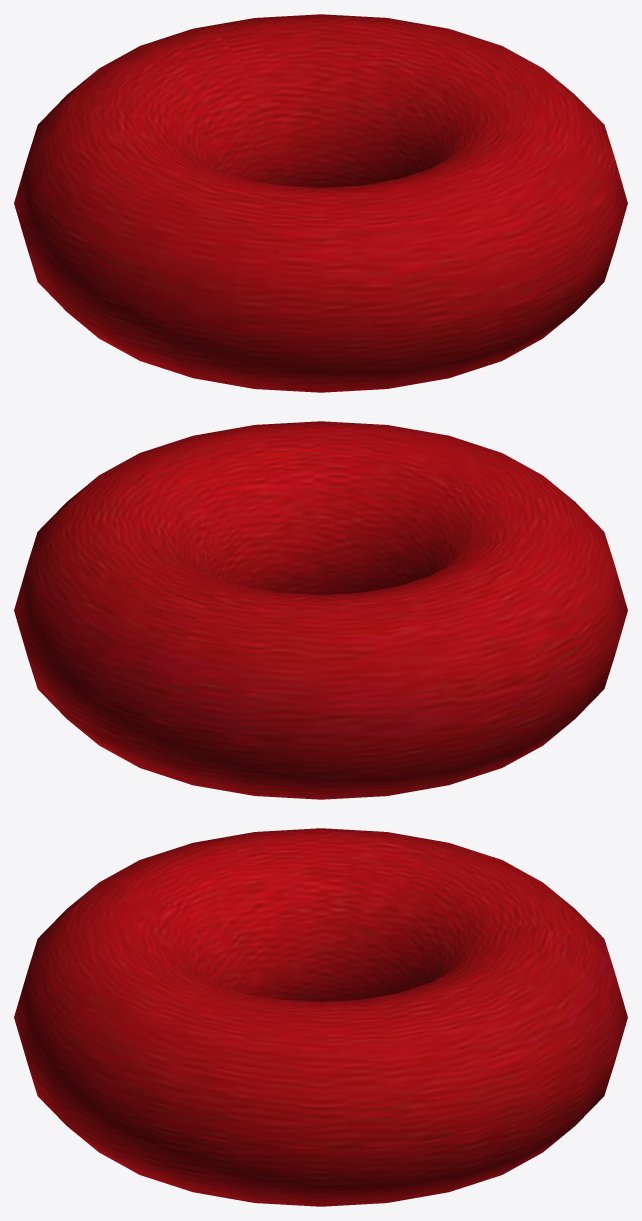
Rendered from flotador.obj.
3 views of the same model, one above another, from view 1: azimuth 30°, elevation 25°; view 2: azimuth 150°, elevation 25°; view 3: azimuth 270°, elevation 25° (orthographic).
Visible parts, largest first — view 1: flotador001; view 2: flotador001; view 3: flotador001.
Boxes of the visible parts, x1,y1,x2,y2 form: flotador001: [14, 14, 627, 392]; flotador001: [14, 421, 627, 799]; flotador001: [14, 828, 627, 1206].
Bounding box in the file's own units: 0.5971 × 0.2001 × 0.5971.
Materials: 1 (1 with a texture image).
